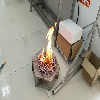fire: (40, 22, 57, 68)
